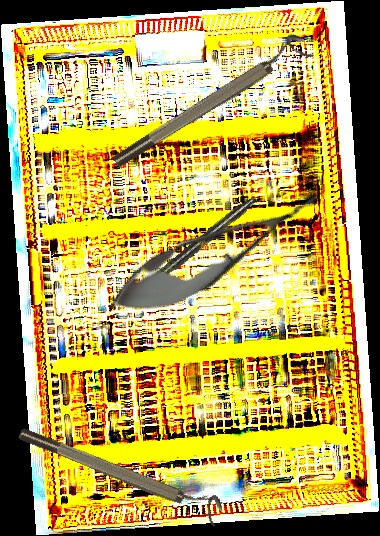Fixation Ring: (105, 29, 314, 172), (16, 415, 227, 527)
Handpiece: (129, 194, 258, 302)
Micro Scissor: (96, 172, 333, 335)
